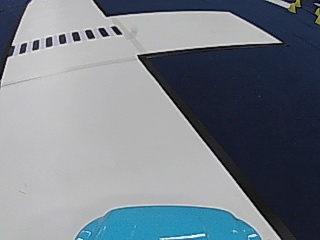CrossWalk: (11, 25, 119, 53)
